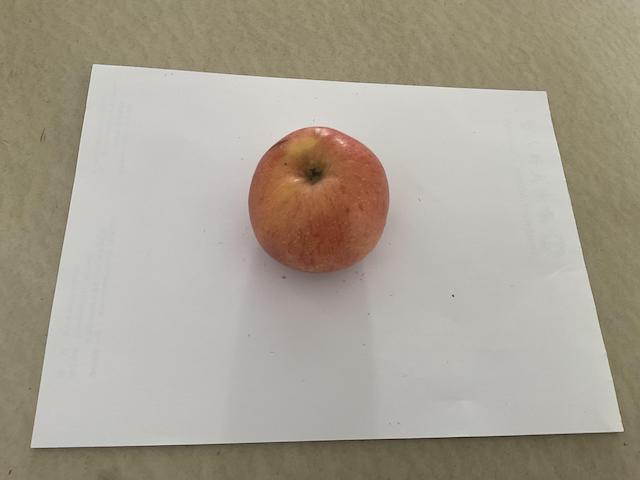apple: (243, 119, 394, 282)
